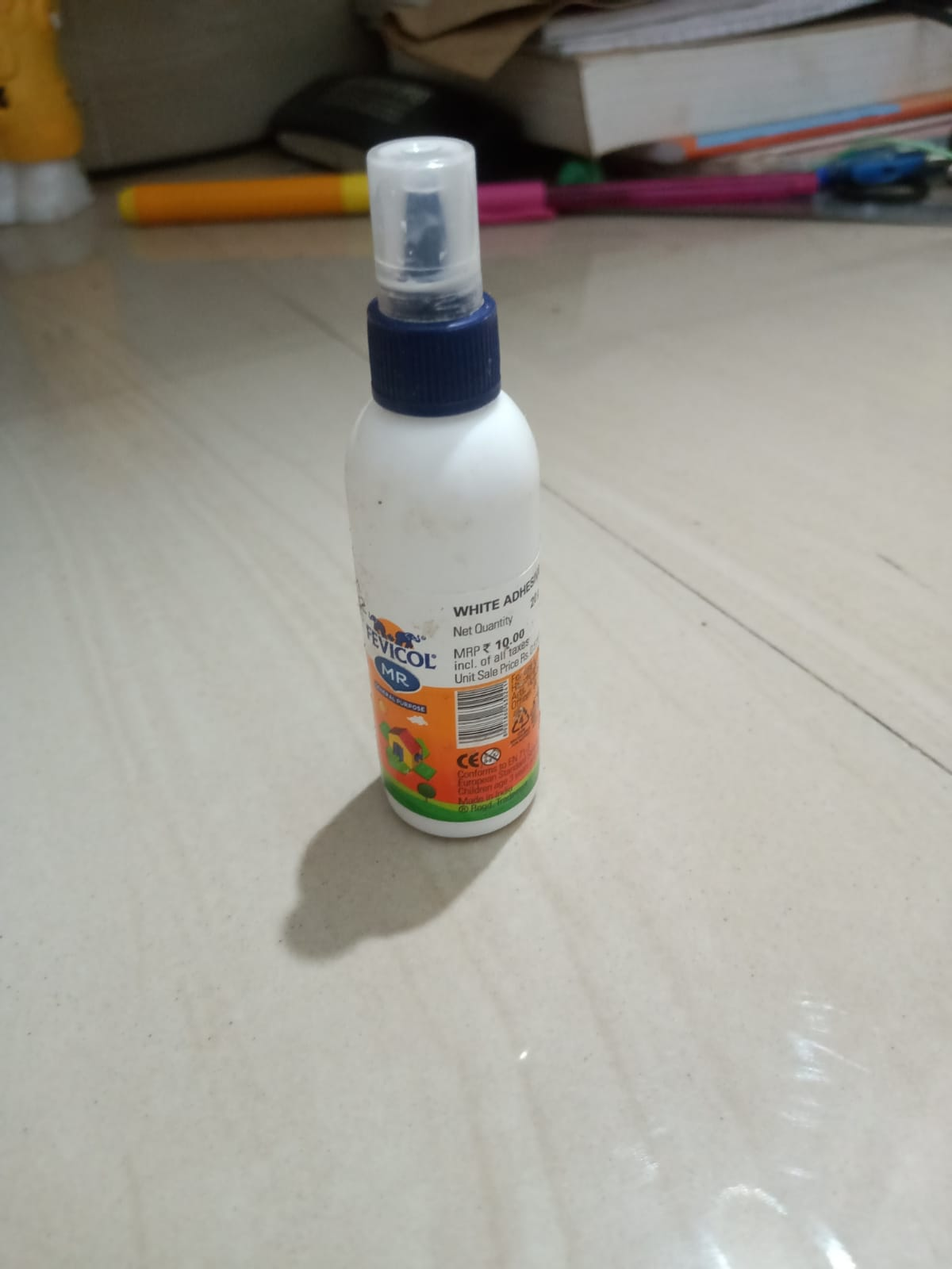plastic: (254, 149, 638, 882)
